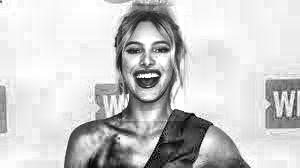happy: (122, 7, 184, 122)
